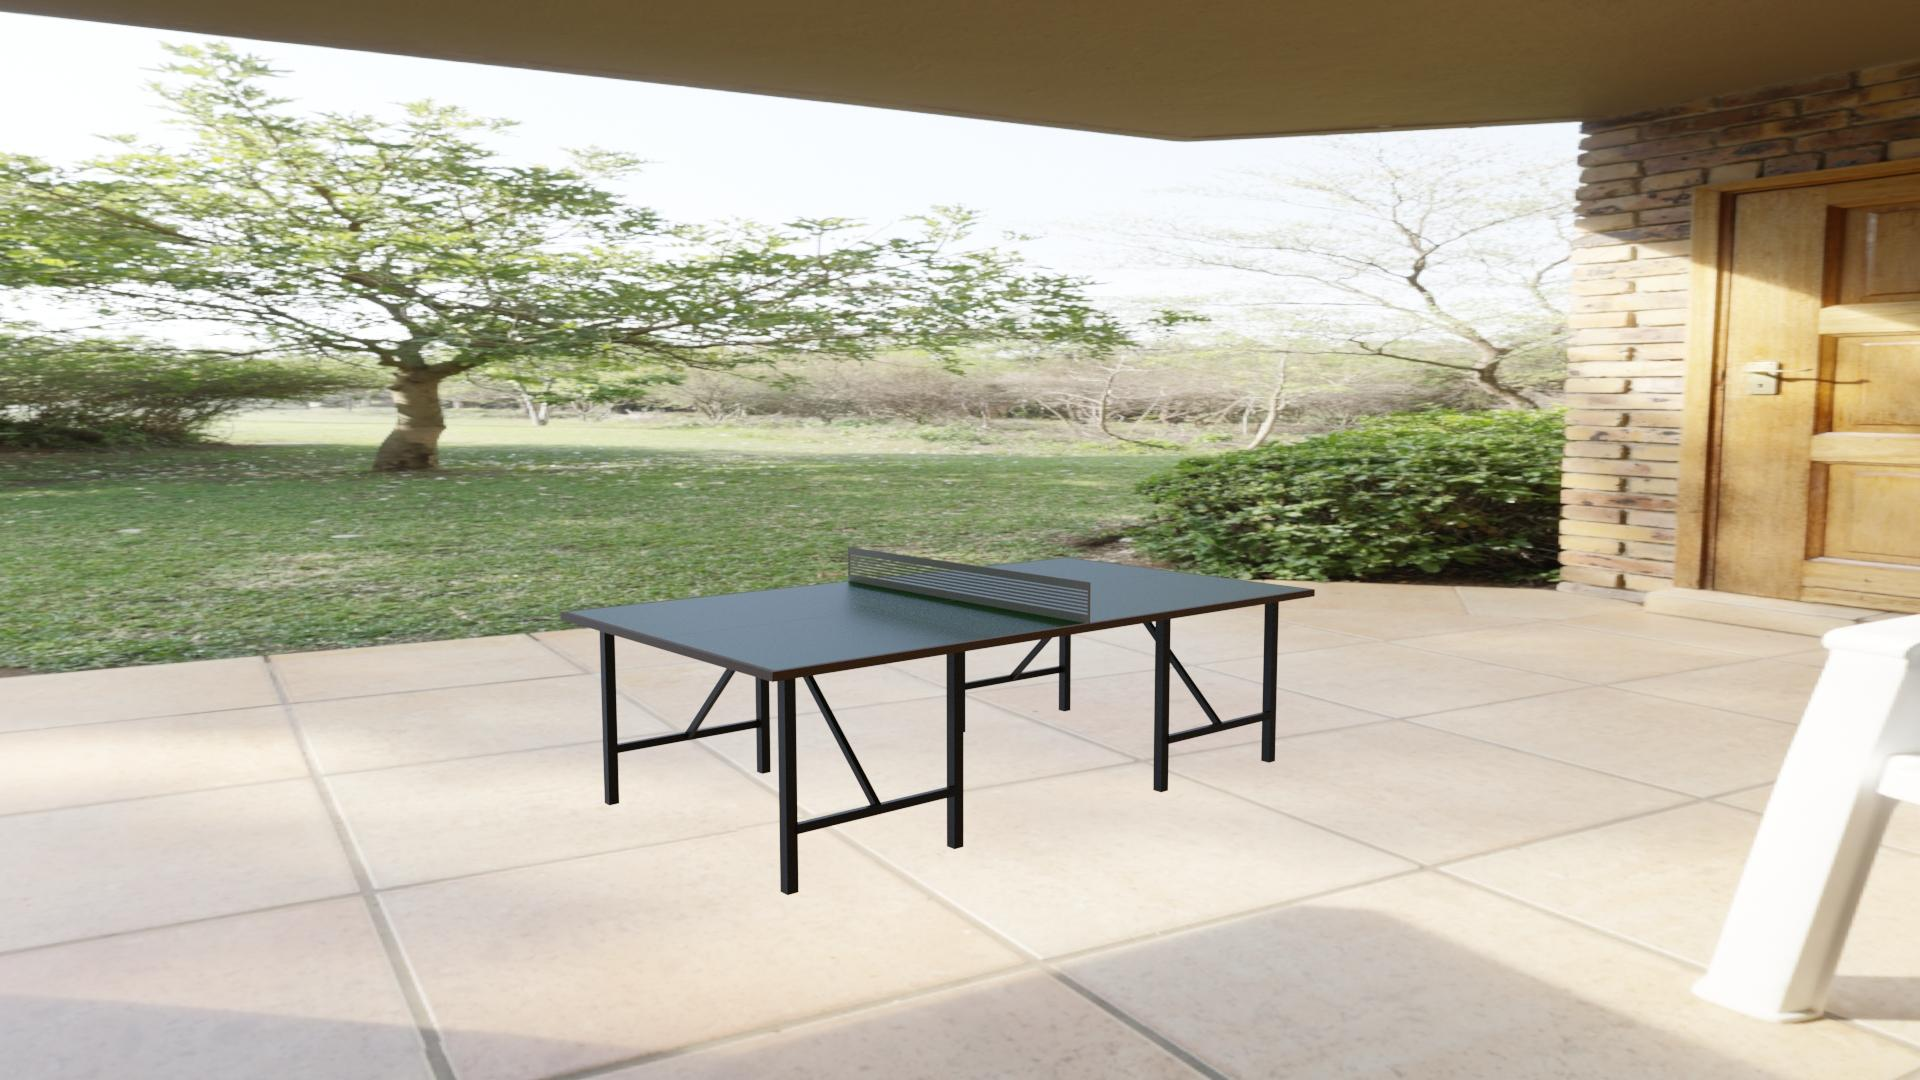table: (567, 558, 1308, 670)
